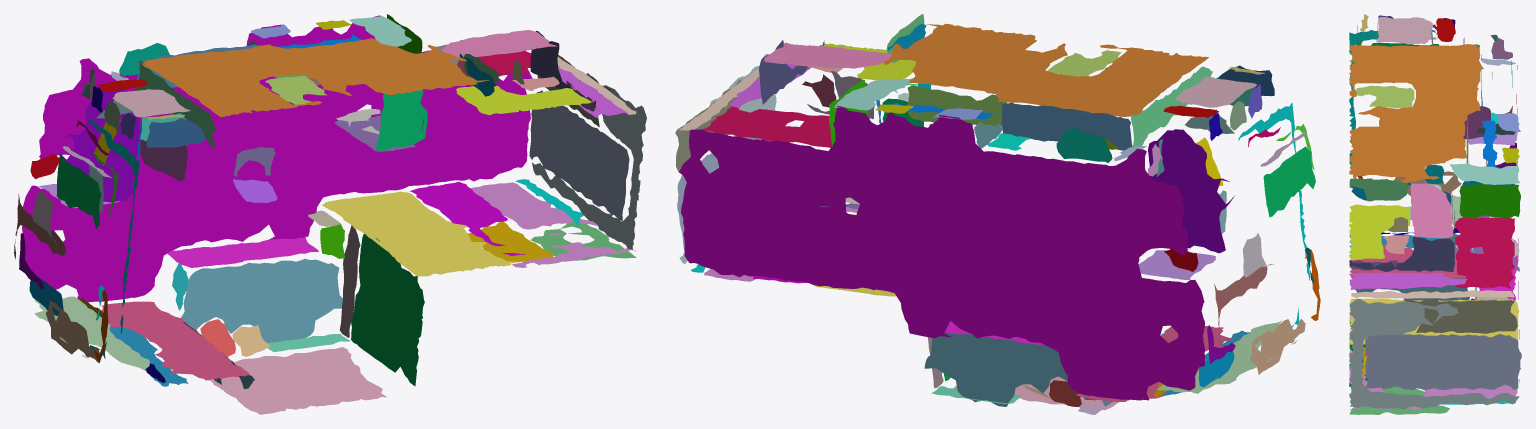
Rendered from pips_scene057.glb.
3 renders of one model, left to right at view 1: azimuth 30°, elevation 25°; view 2: azimuth 150°, elevation 25°; view 3: azimuth 270°, elevation 25°, orthographic. The views are drawn at different scales.
Size of the model in its own units: 7.21 by 4.19 by 2.4.
